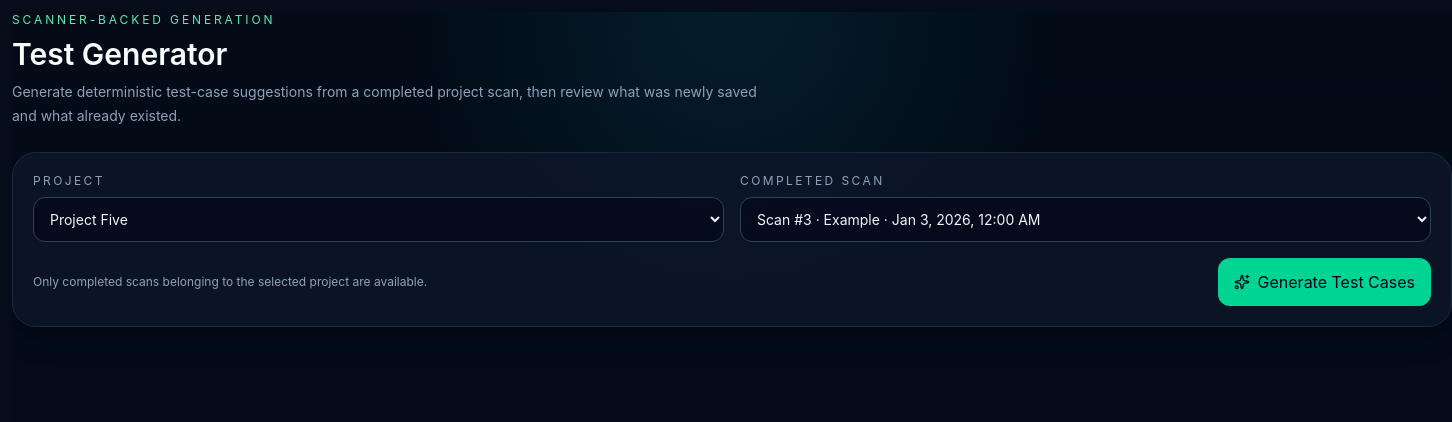
Scenario: separate generator and saved inventory pages › shows generator loading, empty-scan, and backend error states
Later steps or results of the test are not shown.
Click the button "Generate Test Cases": (1324, 282) top-left (1218, 258), bottom-right (1431, 306)
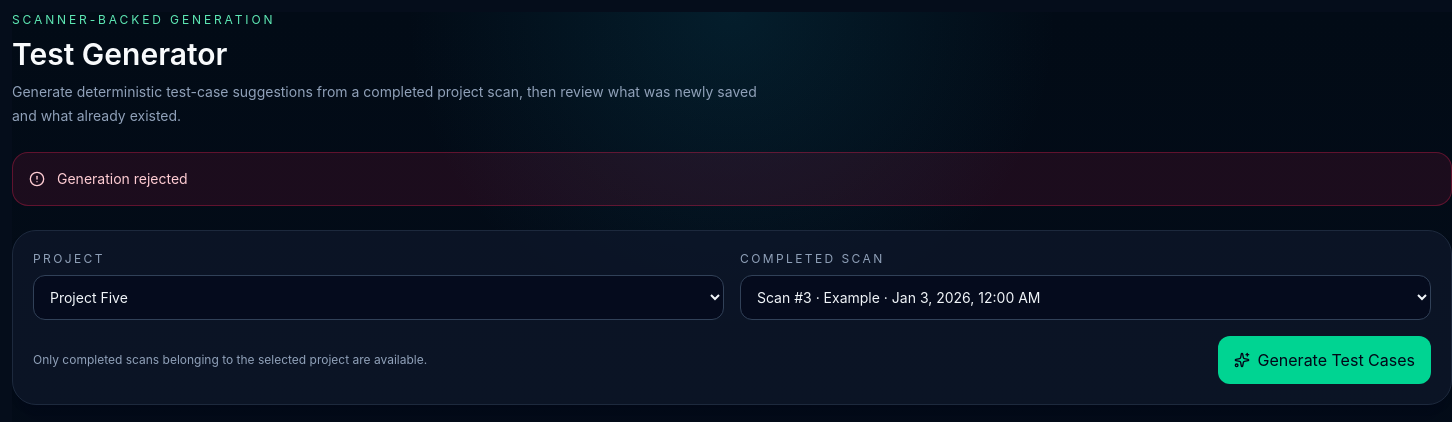
Expected: the message reads "Generation rejected", top-left (57, 170), bottom-right (188, 187)
